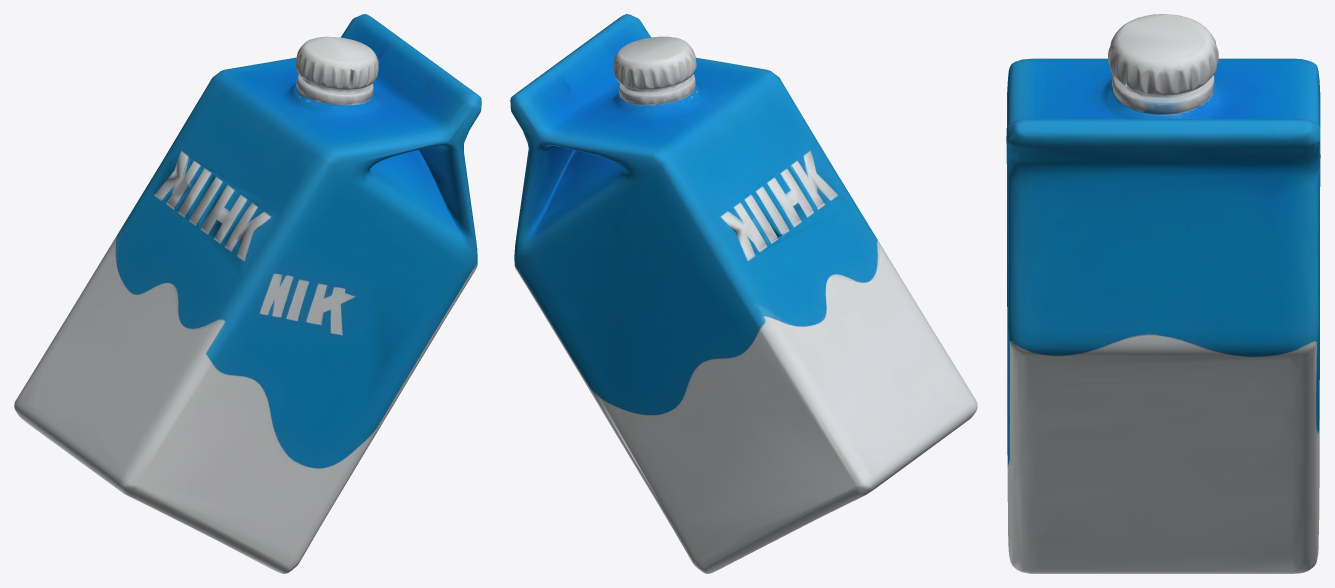
File: basket-milk.glb
3 views of the same model, side by side, from view 1: azimuth 30°, elevation 25°; view 2: azimuth 150°, elevation 25°; view 3: azimuth 270°, elevation 25° (orthographic). The views are drawn at different scales.
Parts seen in each view (by area): view 1: node_0; view 2: node_0; view 3: node_0.
Part boxes in pixels (box(x1,y1,x2,y2)): node_0: box(14, 14, 481, 573); node_0: box(510, 14, 977, 573); node_0: box(1006, 14, 1320, 573).
Bounding box in the file's own units: 0.7793 × 0.9584 × 0.4483.
1 material, 1 textured.
